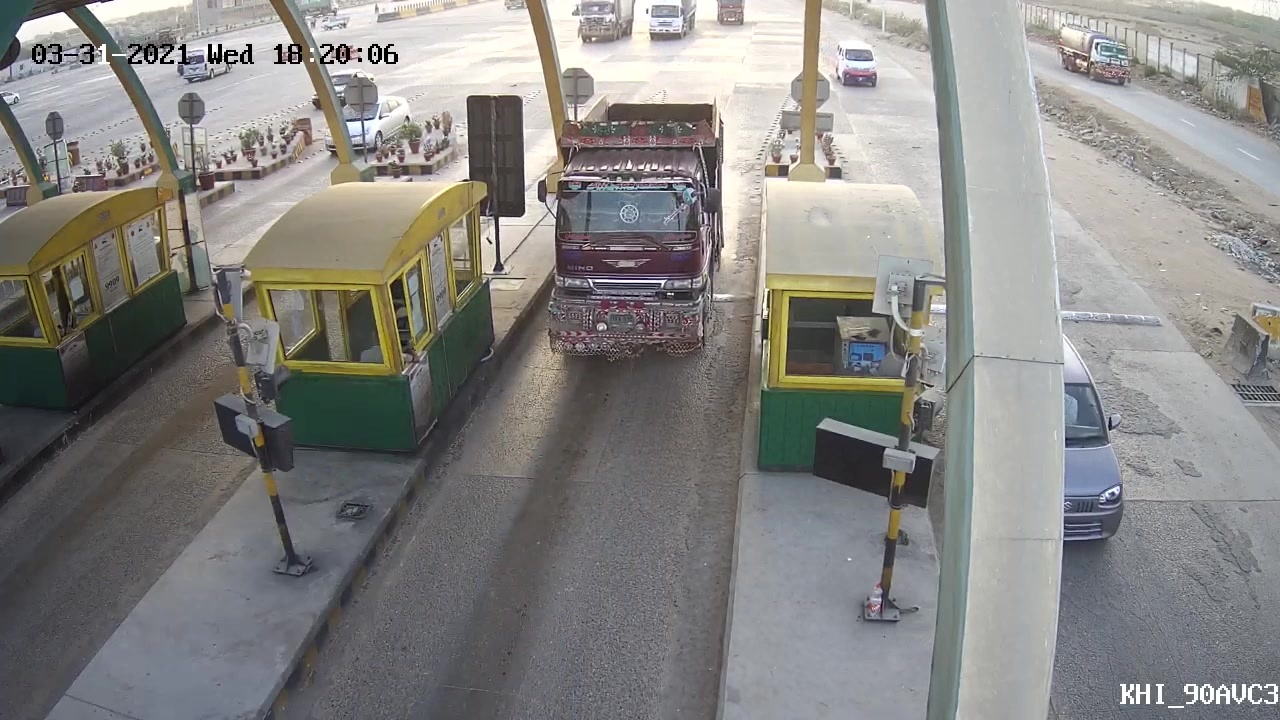F5: (529, 94, 732, 359)
